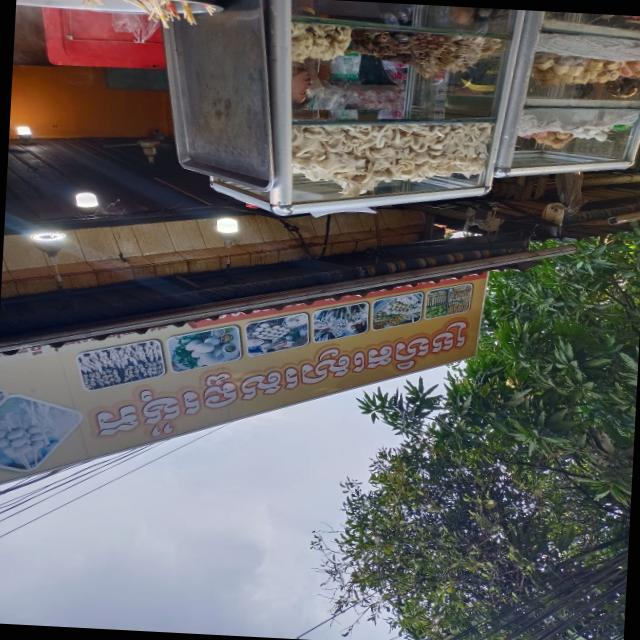Yolov11_80vkh: (85, 311, 474, 456)
